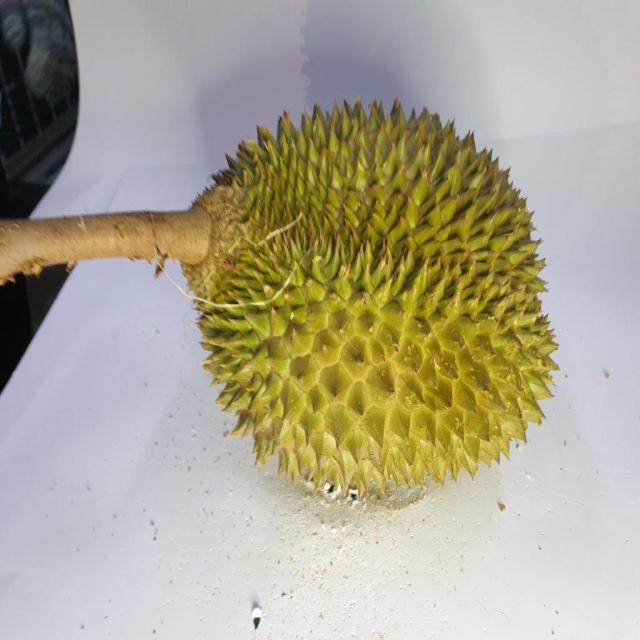immature: (186, 96, 561, 502)
